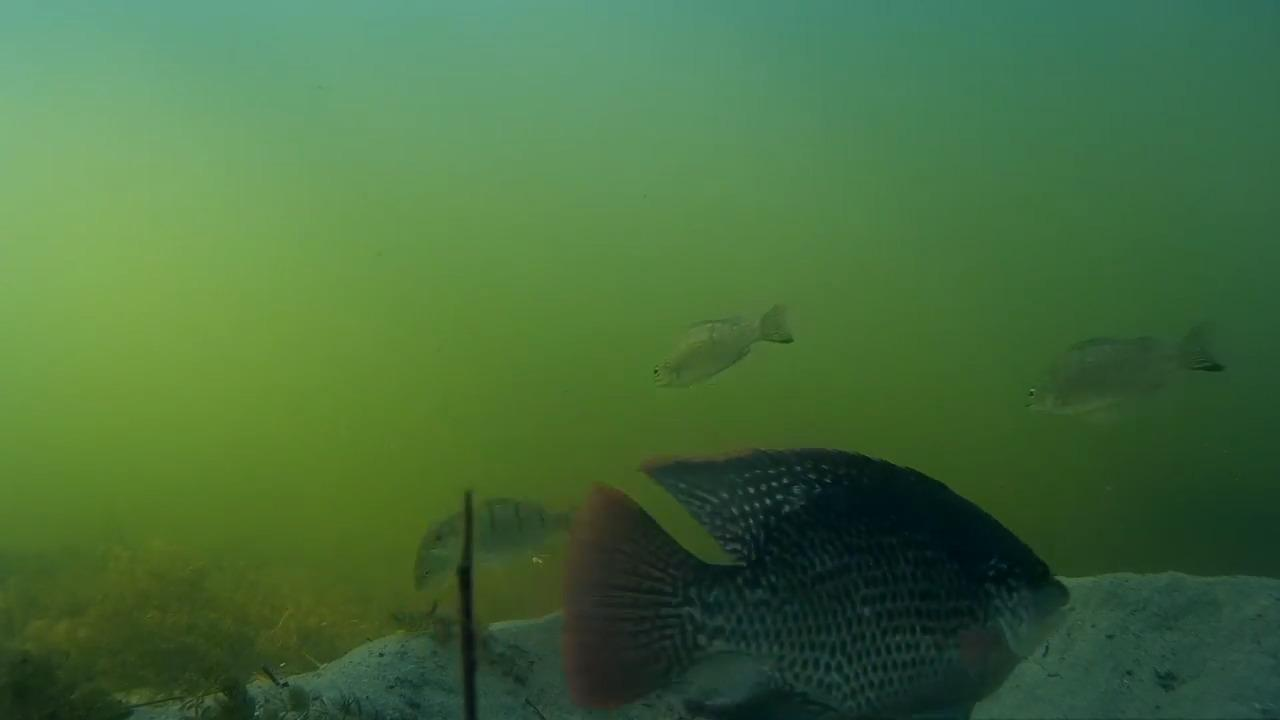Tilapia: (560, 454, 1079, 720), (1019, 330, 1234, 430), (637, 286, 804, 398), (407, 492, 586, 562)
